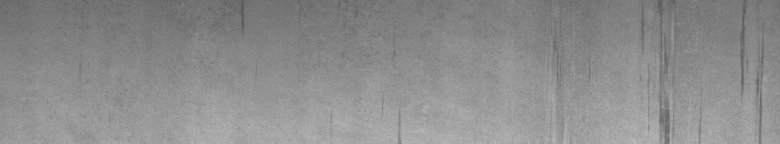ka: (641, 4, 767, 136)
